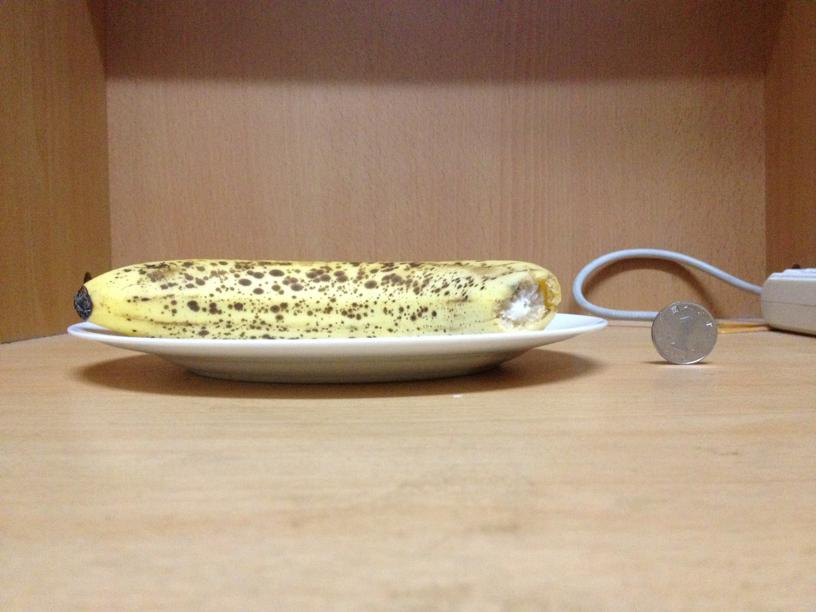banana: (74, 256, 560, 335)
coin: (651, 299, 717, 365)
